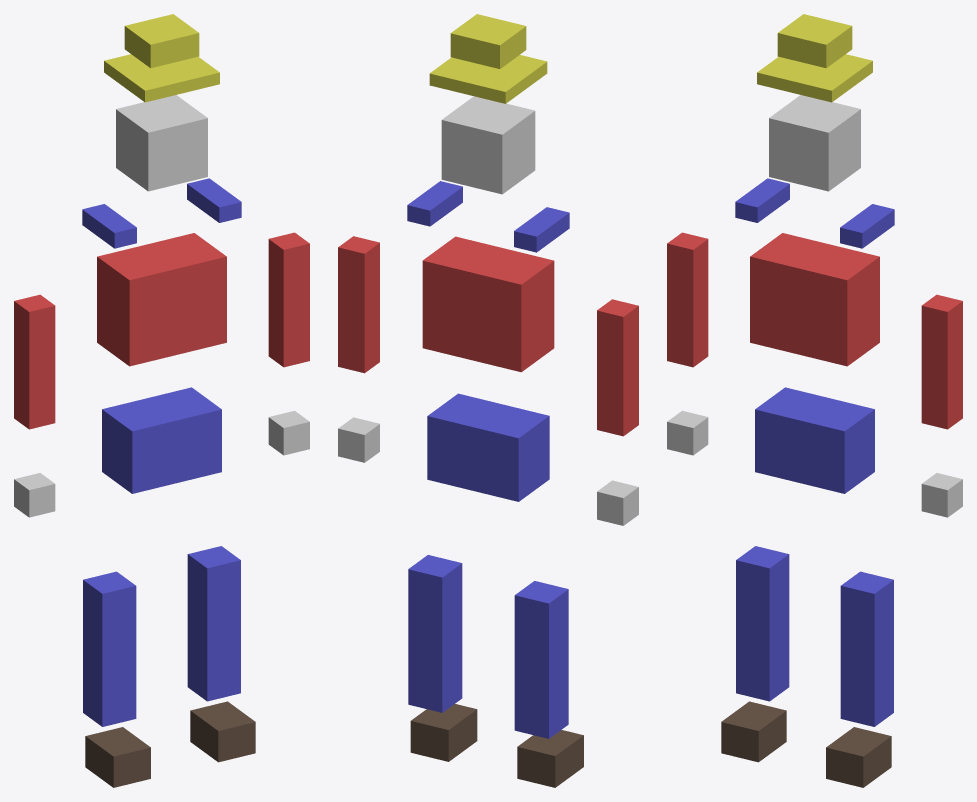
The model's file is farmer.glb.
3 renders of one model, left to right at view 1: azimuth 30°, elevation 25°; view 2: azimuth 150°, elevation 25°; view 3: azimuth 330°, elevation 25°, orthographic.
Parts seen in each view (by area): view 1: farmer; view 2: farmer; view 3: farmer.
Boxes of the visible parts, x1,y1,x2,y2 form: farmer: [14, 14, 309, 787]; farmer: [338, 14, 638, 787]; farmer: [667, 14, 962, 787].
Size of the model in its own units: 37.5 by 92.5 by 10.
